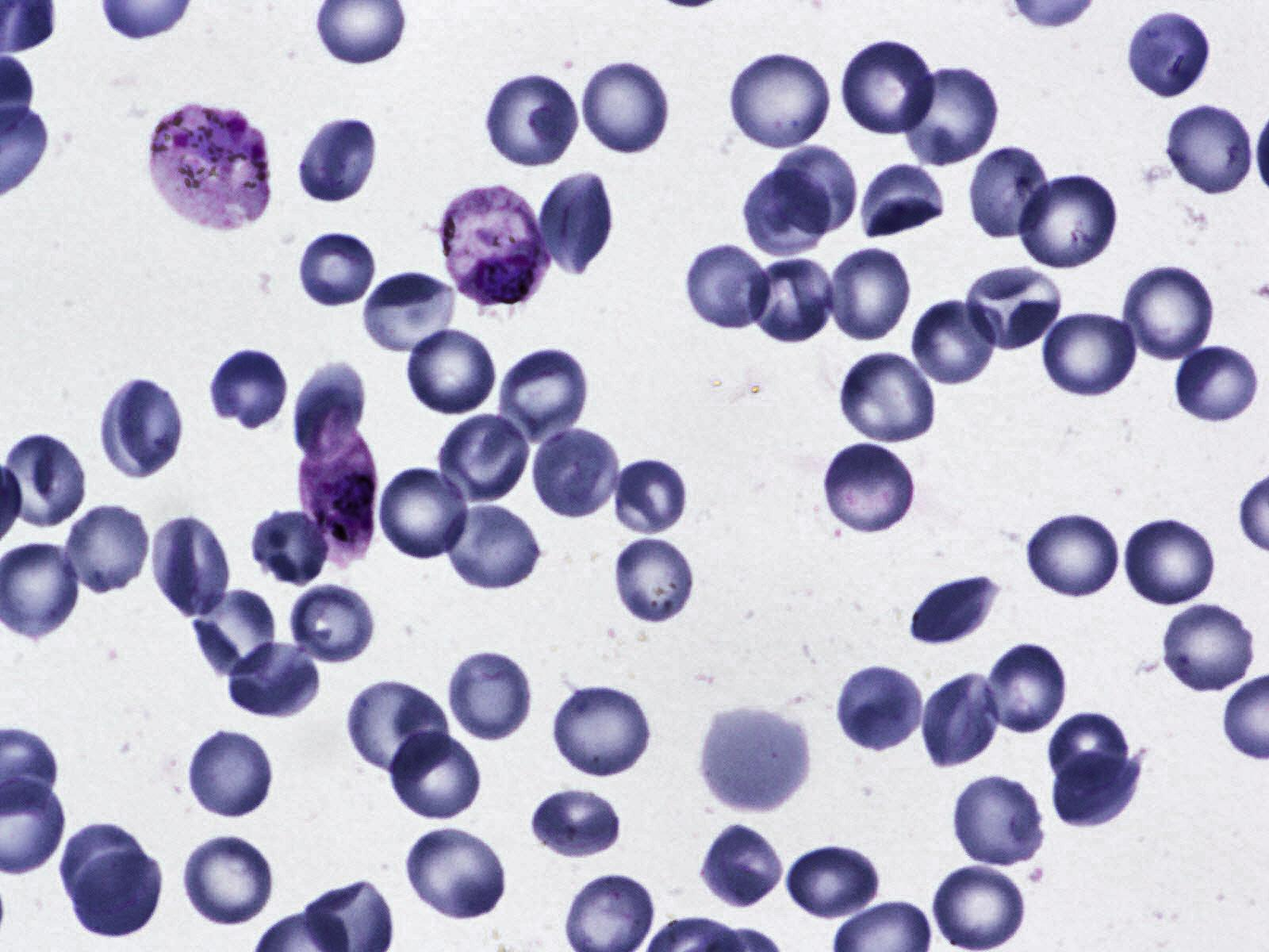Infected: (148, 104, 271, 230), (442, 185, 549, 308), (299, 408, 380, 567)
Uninfected: (720, 45, 836, 152), (895, 61, 1005, 171), (698, 708, 807, 814), (404, 823, 512, 923), (833, 37, 938, 137), (1015, 171, 1120, 271), (834, 347, 941, 443), (550, 683, 654, 781), (1120, 259, 1218, 363), (483, 69, 581, 170), (180, 828, 277, 930), (345, 678, 448, 774), (1119, 512, 1221, 608), (949, 771, 1047, 867), (580, 57, 673, 158), (822, 442, 918, 538), (822, 245, 916, 343), (99, 374, 185, 481), (389, 726, 489, 818), (1039, 309, 1140, 400), (498, 345, 588, 447), (963, 144, 1055, 243), (1023, 509, 1122, 601), (527, 425, 622, 520), (767, 140, 857, 238), (154, 510, 234, 620), (358, 271, 459, 357), (781, 842, 888, 923), (56, 821, 149, 914), (439, 414, 534, 505), (441, 504, 540, 591), (1163, 104, 1256, 196), (834, 662, 926, 755), (1161, 603, 1253, 696), (919, 668, 1003, 769), (380, 466, 470, 559), (536, 171, 614, 278), (682, 240, 773, 330), (444, 649, 532, 742), (406, 328, 500, 415), (931, 863, 1026, 949), (69, 849, 164, 935), (62, 502, 151, 593), (7, 433, 85, 536), (1123, 9, 1213, 97), (190, 727, 275, 820), (913, 296, 997, 390), (746, 255, 836, 342), (283, 578, 373, 665), (744, 167, 830, 257), (224, 639, 324, 716), (702, 820, 786, 911), (1047, 752, 1144, 830), (968, 266, 1061, 347), (611, 538, 697, 625), (190, 585, 274, 674), (208, 339, 285, 436), (986, 641, 1067, 732), (530, 788, 628, 863), (907, 569, 1006, 643), (298, 116, 379, 206), (293, 356, 364, 456), (857, 160, 951, 234), (1175, 343, 1259, 425), (1047, 708, 1127, 793), (298, 231, 380, 312), (609, 456, 692, 536), (251, 509, 332, 585)
